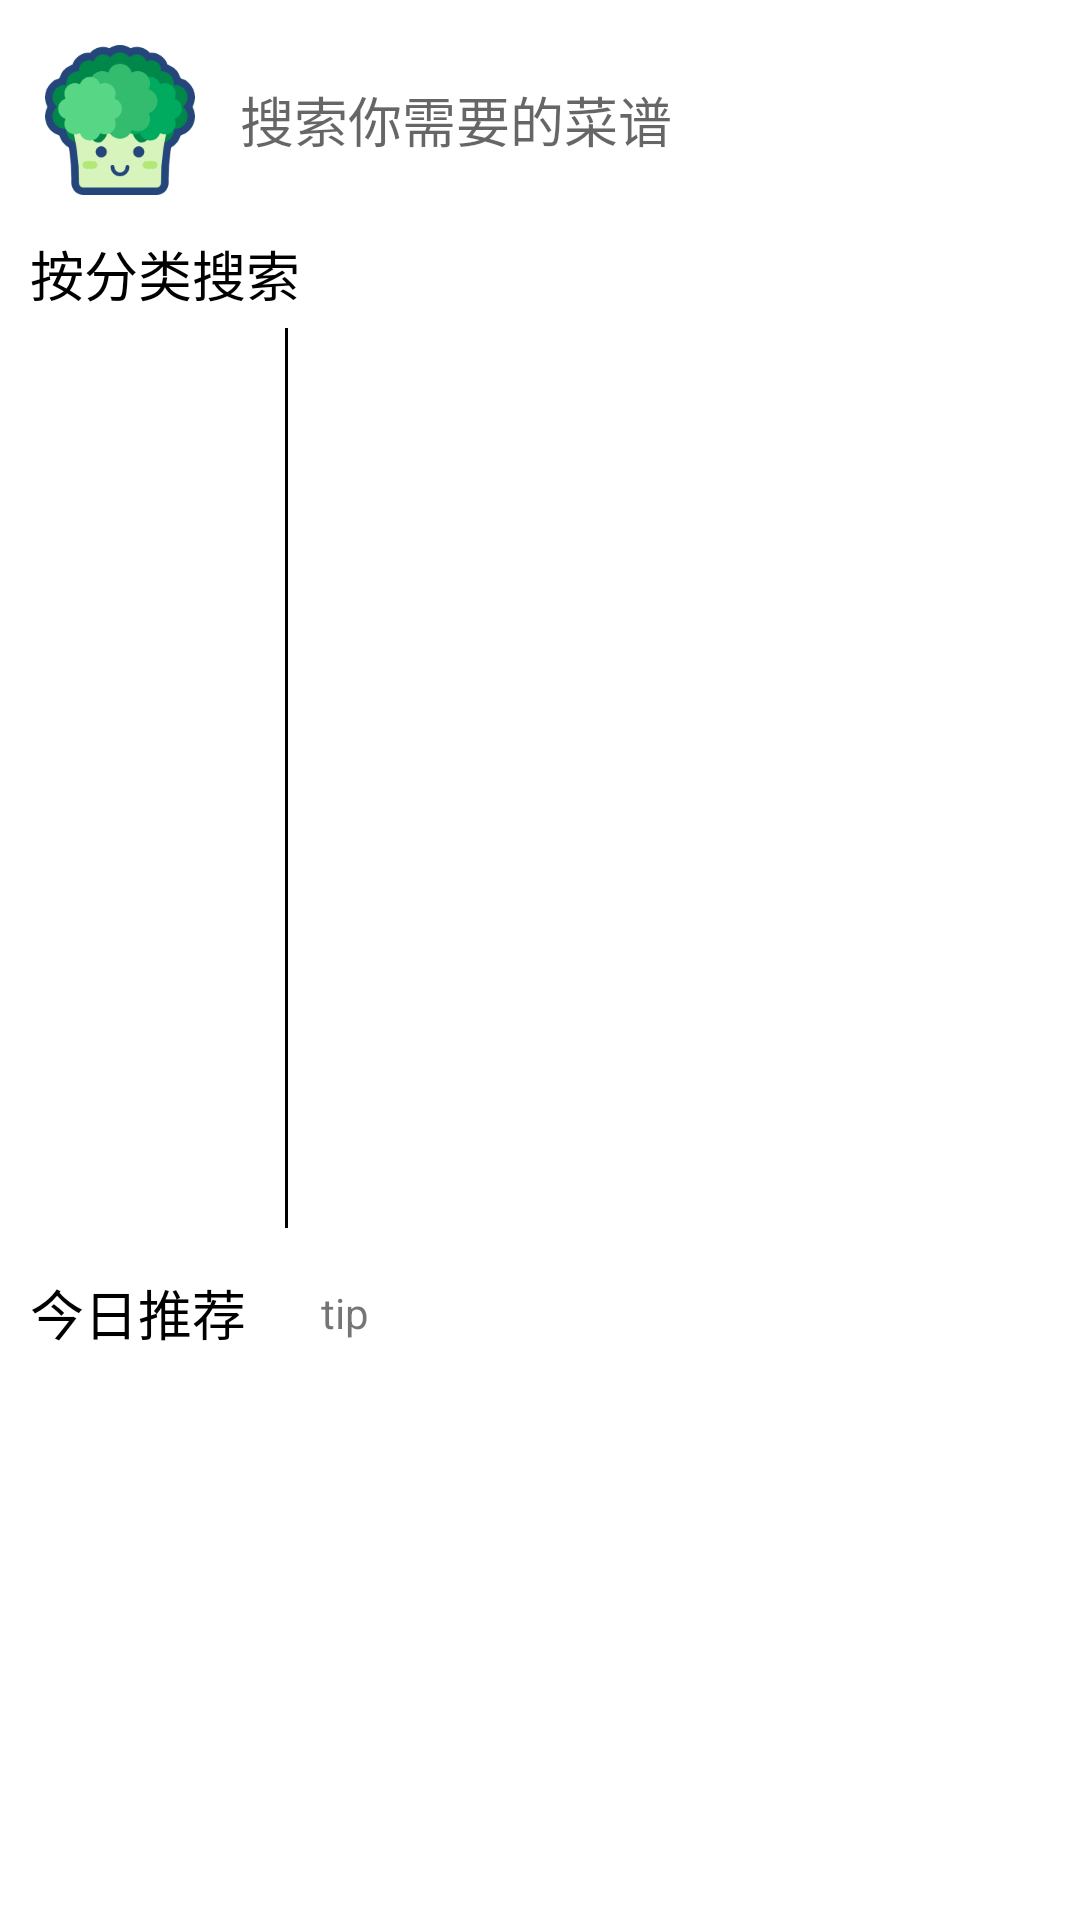

Screen size 1080 × 1920. Icon name, then its box in pixels as (x1=x1, y1=y1, x2=x2, y2=y2):
home page broccoli: (x1=45, y1=45, x2=195, y2=195)
